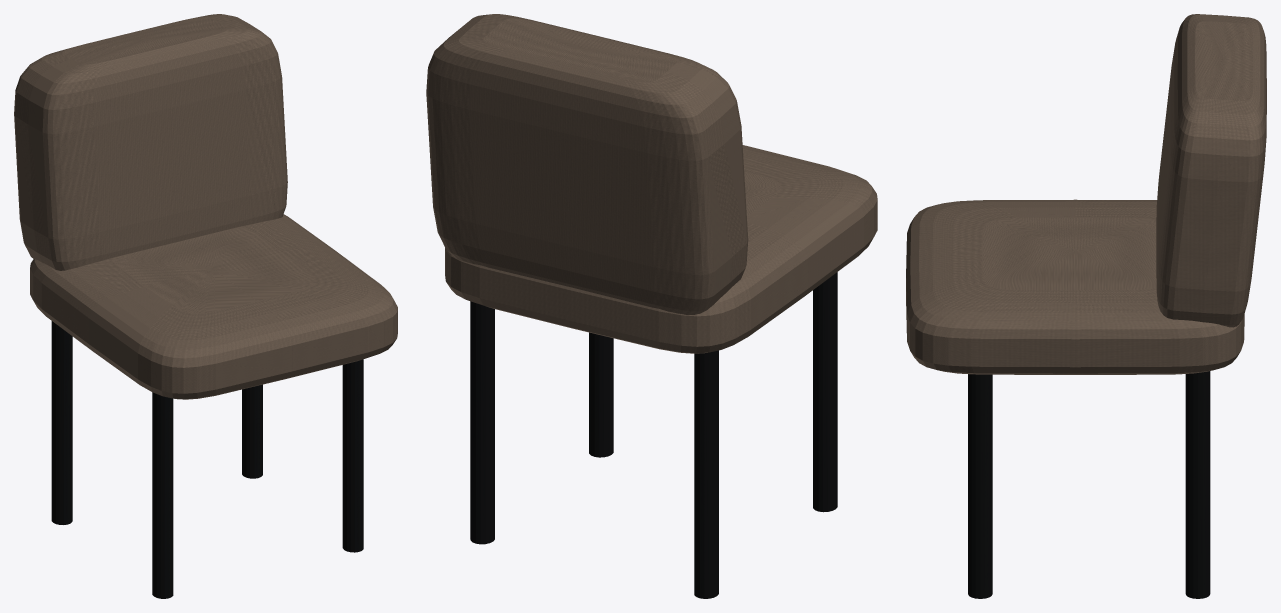
Rendered from dining-chair-upholstered_lod1.glb.
The picture shows the model from 3 angles, left to right: view 1: azimuth 30°, elevation 25°; view 2: azimuth 150°, elevation 25°; view 3: azimuth 270°, elevation 25°; orthographic projection. The views are drawn at different scales.
Parts seen in each view (by area): view 1: back, seat, leg_3, leg_1, leg_4, leg_2; view 2: back, seat, leg_1, leg_2, leg_3, leg_4; view 3: seat, back, leg_2, leg_4.
Part boxes in pixels (x1,y1,x2,y2): back: (14, 14, 287, 270); seat: (30, 214, 397, 399); leg_3: (152, 392, 173, 598); leg_1: (51, 321, 72, 524); leg_4: (342, 359, 363, 552); leg_2: (242, 384, 262, 478); back: (426, 14, 748, 314); seat: (445, 145, 877, 353); leg_1: (694, 350, 718, 598); leg_2: (470, 301, 494, 544); leg_3: (813, 272, 837, 512); leg_4: (589, 332, 613, 457); seat: (906, 199, 1244, 374); back: (1156, 14, 1266, 327); leg_2: (1185, 371, 1210, 598); leg_4: (968, 374, 992, 598).
Size of the model in its own units: 0.5 by 0.86 by 0.58.
Materials: 2 (2 with a texture image).
